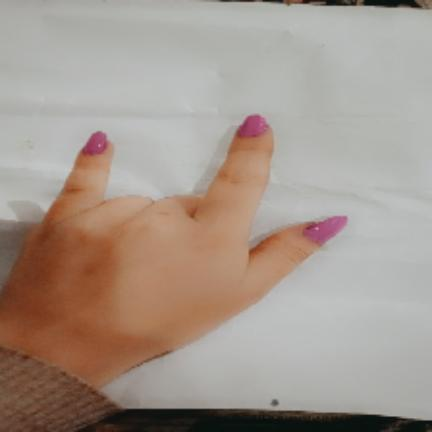Nail: (304, 216, 348, 245), (237, 115, 268, 137), (82, 131, 107, 154)
